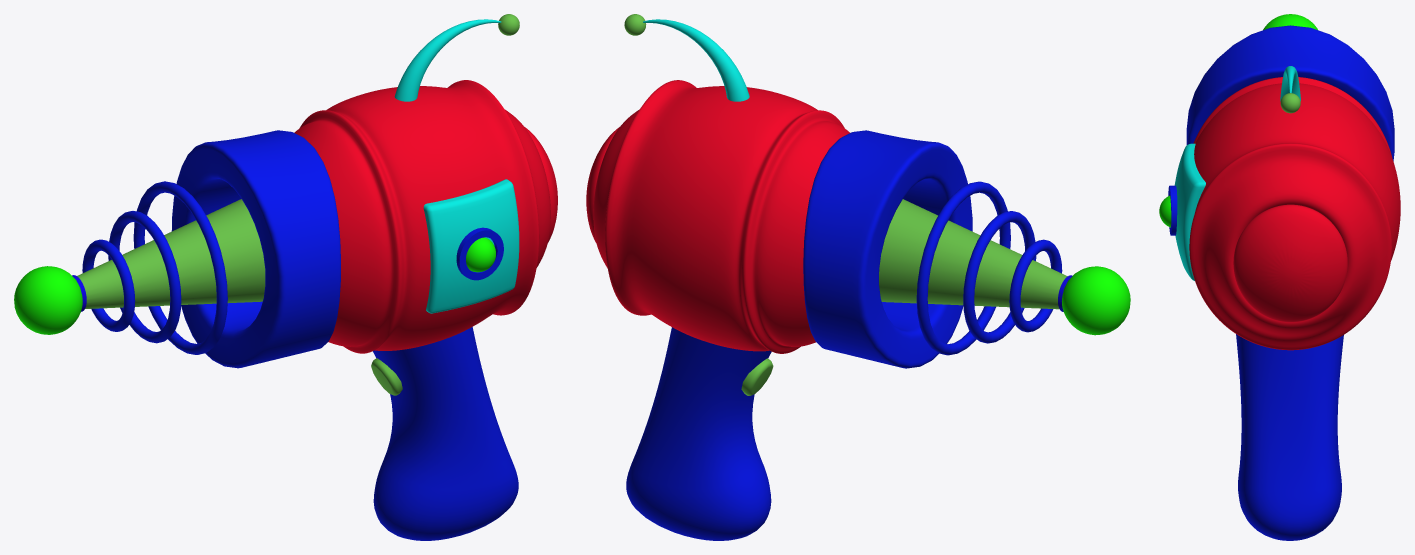
File: space gun retextured.fbx
3 renders of one model, left to right at view 1: azimuth 30°, elevation 25°; view 2: azimuth 150°, elevation 25°; view 3: azimuth 270°, elevation 25°, orthographic. The views are drawn at different scales.
Visible parts, largest first — view 1: Sphere004; view 2: Sphere004; view 3: Sphere004.
Boxes of the visible parts, x1,y1,x2,y2 form: Sphere004: (14,14,557,540); Sphere004: (586,14,1130,540); Sphere004: (1159,14,1400,540).
Size of the model in its own units: 418 by 380 by 178.
